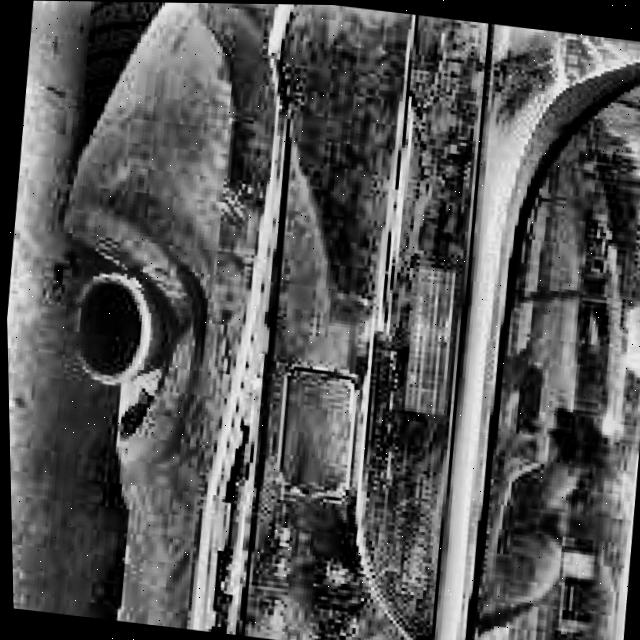tail_lamp: (383, 239, 470, 446)
